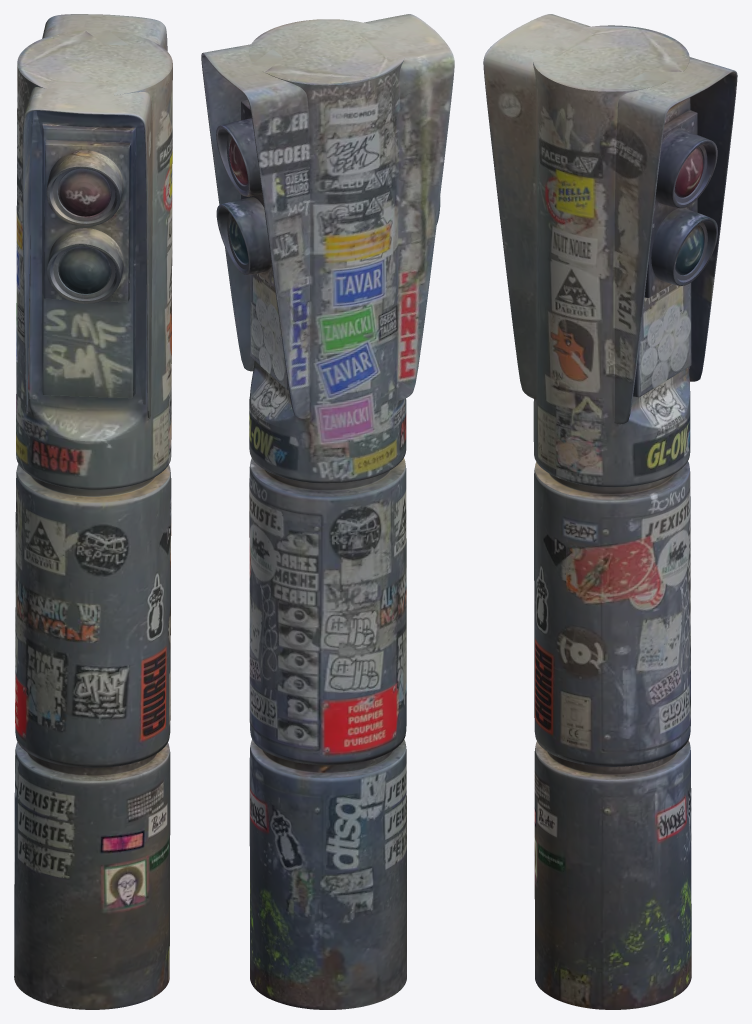
Rendered from prop_trafficlight.glb.
The picture shows the model from 3 angles, left to right: view 1: azimuth 30°, elevation 25°; view 2: azimuth 150°, elevation 25°; view 3: azimuth 270°, elevation 25°; orthographic projection.
Visible parts, largest first — view 1: Object_2; view 2: Object_2; view 3: Object_2.
Boxes of the visible parts, bbox=[...] form: Object_2: bbox=[14, 14, 172, 1009]; Object_2: bbox=[201, 14, 454, 1009]; Object_2: bbox=[483, 14, 737, 1009].
Size of the model in its own units: 0.3831 by 1.7 by 0.4261.
1 material, 1 textured.
